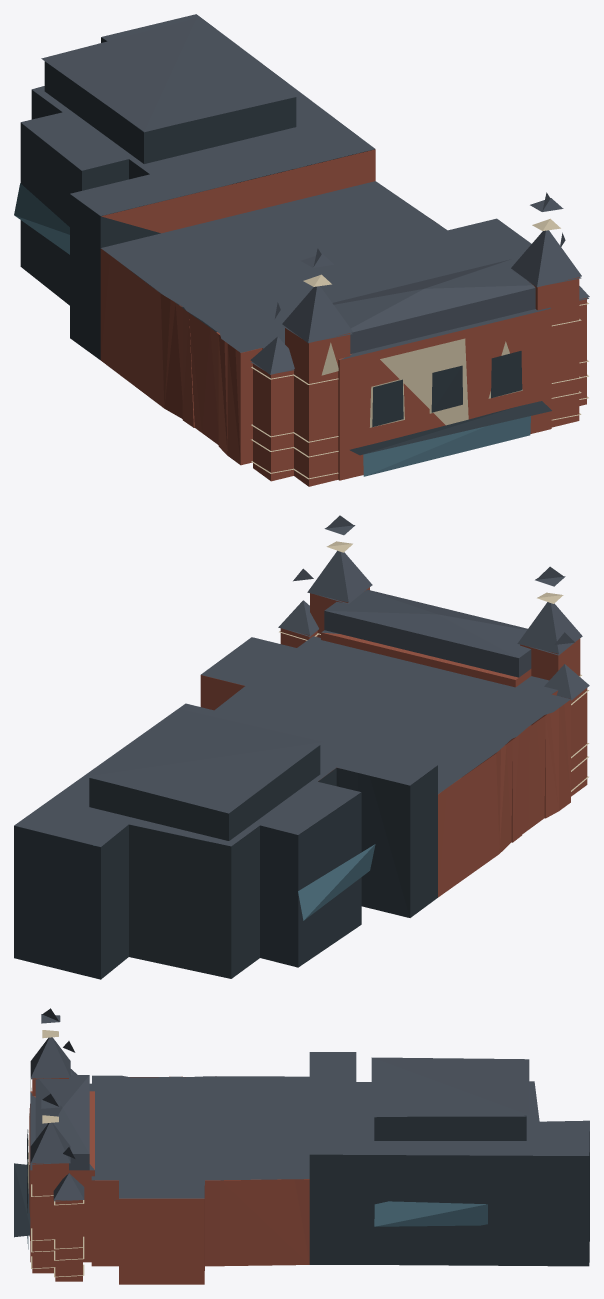
File: stadsschouwburg.lod2.glb
3 renders of one model, top to bottom at view 1: azimuth 30°, elevation 25°; view 2: azimuth 150°, elevation 25°; view 3: azimuth 270°, elevation 25°, orthographic. The views are drawn at different scales.
Visible parts, largest first — view 1: lod2; view 2: lod2; view 3: lod2.
Boxes of the visible parts, box(x1,y1,x2,y2) form: lod2: box(14, 14, 589, 486); lod2: box(14, 515, 589, 979); lod2: box(14, 1008, 589, 1284).
Bounding box in the file's own units: 53.93 × 35.11 × 107.
